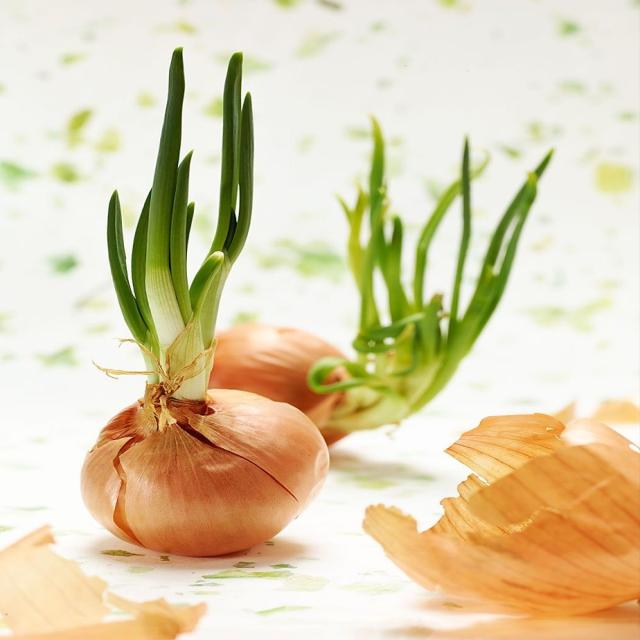sprouting: (66, 22, 345, 536)
